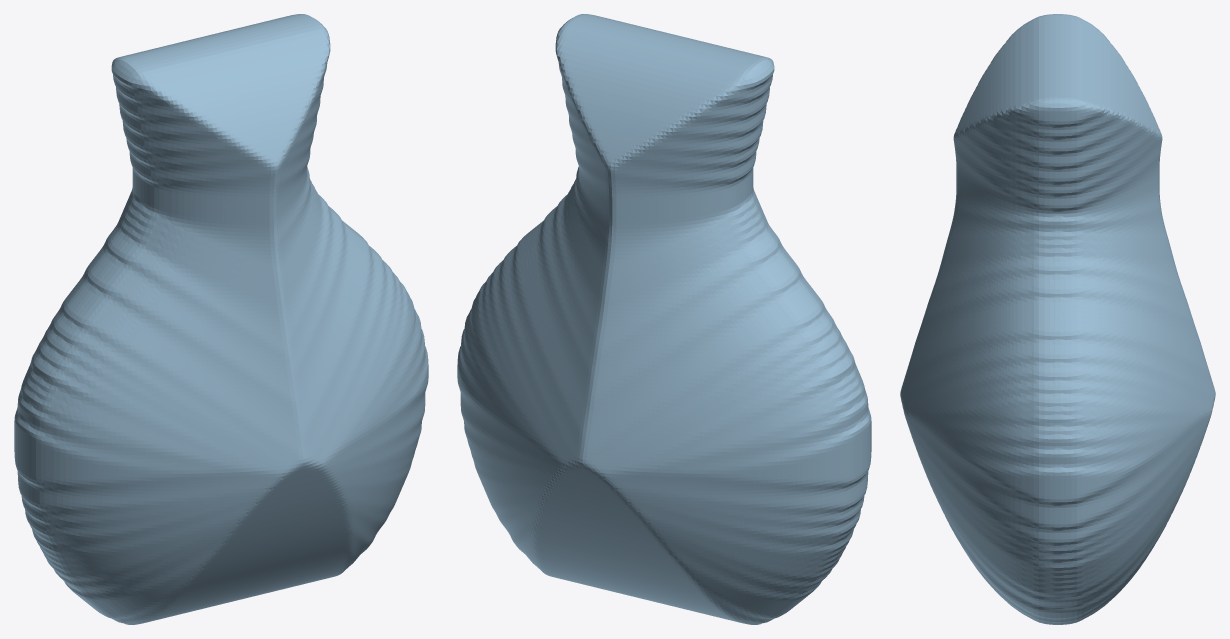
3 renders of one model, left to right at view 1: azimuth 30°, elevation 25°; view 2: azimuth 150°, elevation 25°; view 3: azimuth 270°, elevation 25°, orthographic. The views are drawn at different scales.
Parts seen in each view (by area): view 1: world; view 2: world; view 3: world.
Part boxes in pixels (box(x1,y1,x2,y2)): world: box(14, 14, 428, 624); world: box(457, 14, 871, 624); world: box(900, 14, 1215, 624).
Bounding box in the file's own units: 1.49 × 2 × 1.1.
